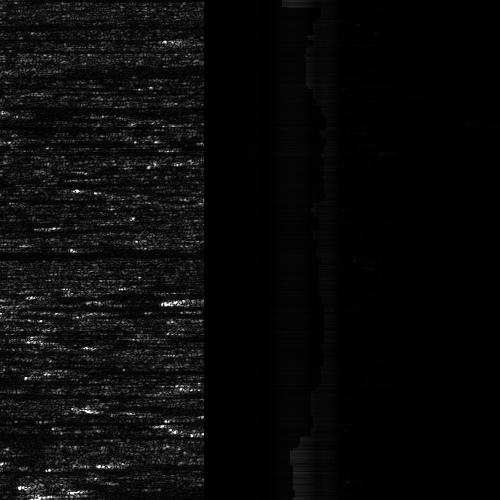rock: (0, 0, 69, 2)
shadow: (0, 15, 209, 34), (0, 436, 131, 457), (7, 0, 183, 2)
